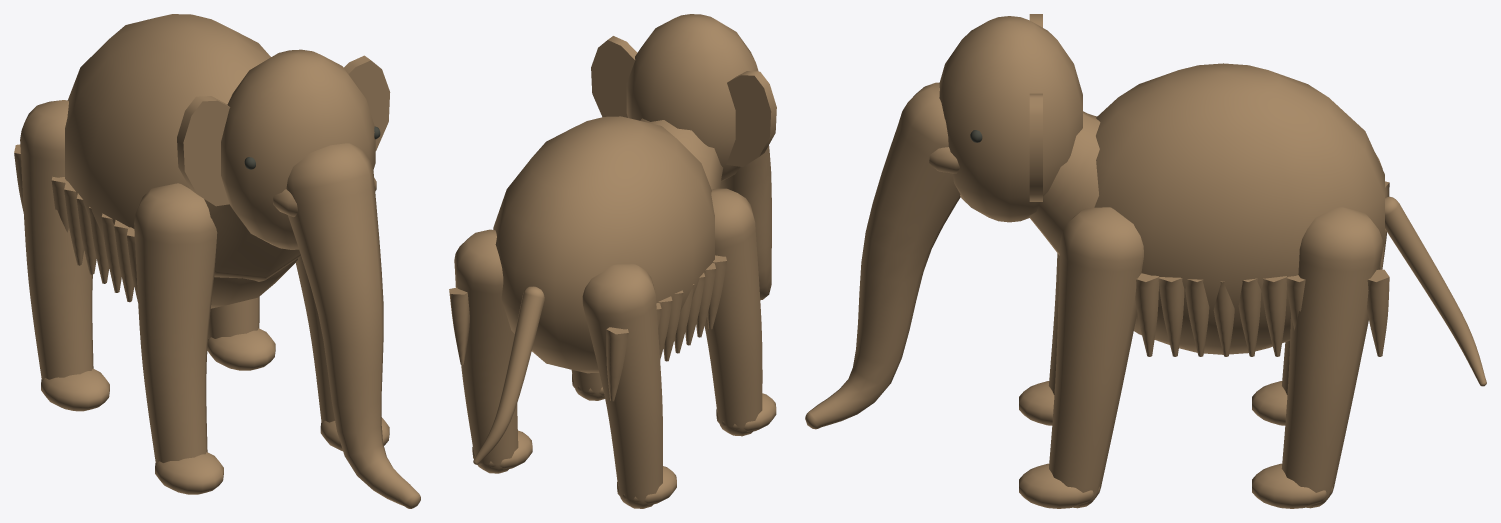
The model's file is dinosaurs-and-prehistoric-life-mammoth-calf-66a54492__4915.glb.
3 views of the same model, side by side, from view 1: azimuth 30°, elevation 25°; view 2: azimuth 150°, elevation 25°; view 3: azimuth 270°, elevation 25° (orthographic). The views are drawn at different scales.
Visible parts, largest first — view 1: mammoth-calf; view 2: mammoth-calf; view 3: mammoth-calf.
Part boxes in pixels (box(x1,y1,x2,y2)): mammoth-calf: box(14, 14, 420, 508); mammoth-calf: box(449, 14, 776, 508); mammoth-calf: box(805, 14, 1486, 508).
Bounding box in the file's own units: 0.7716 × 1.43 × 2.
